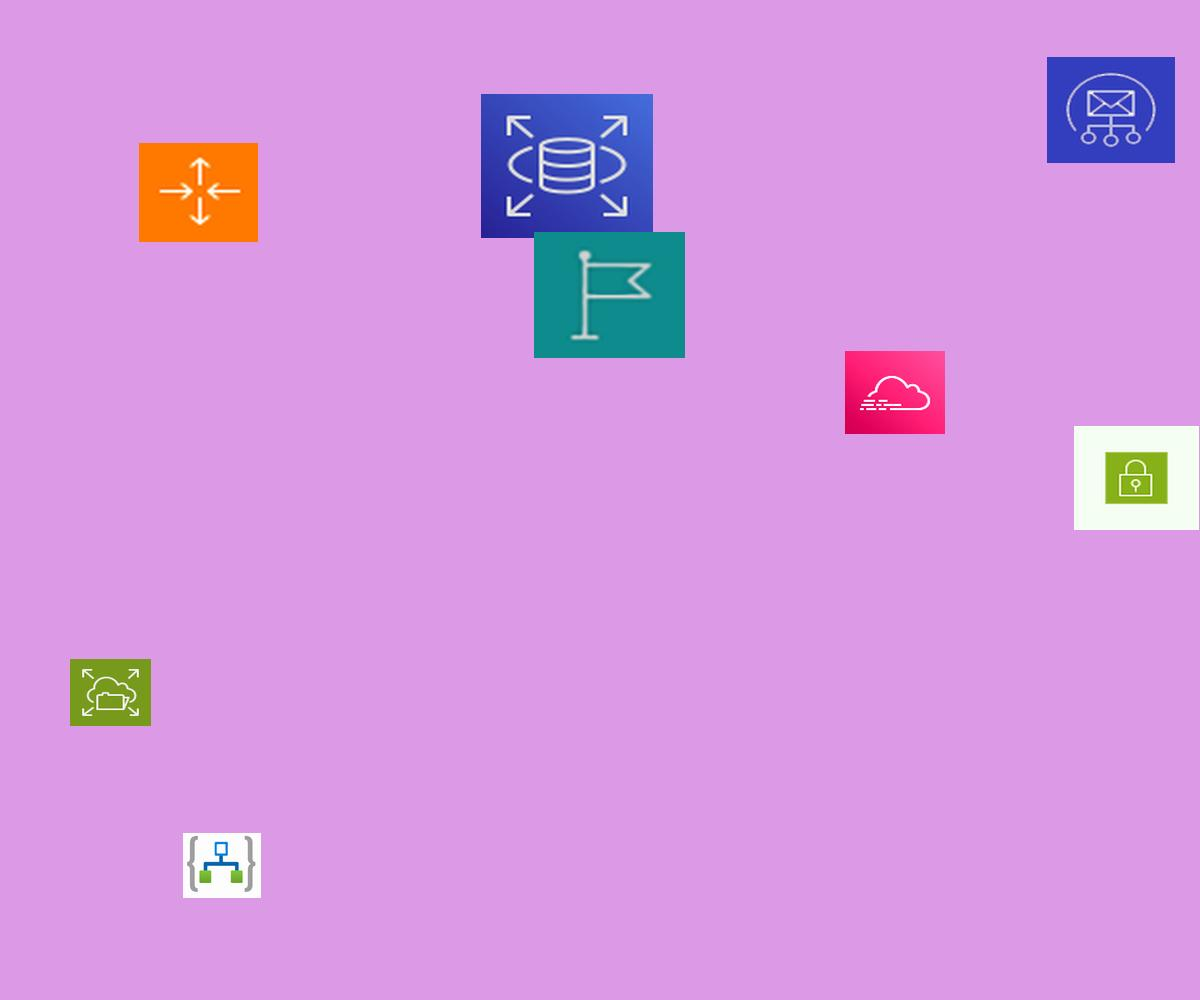AWS-CloudTrail: (845, 351, 945, 434)
AWS-EFS: (70, 659, 151, 726)
AWS-Public-subnet: (1074, 426, 1199, 530)
AWS-RDS: (481, 94, 653, 238)
AWS-Region: (534, 232, 685, 358)
AWS-Scaling-group: (139, 143, 258, 242)
AWS-Simple-Email-Service: (1047, 57, 1175, 163)
Azure_integration-204-Logic-Apps: (183, 833, 261, 898)
